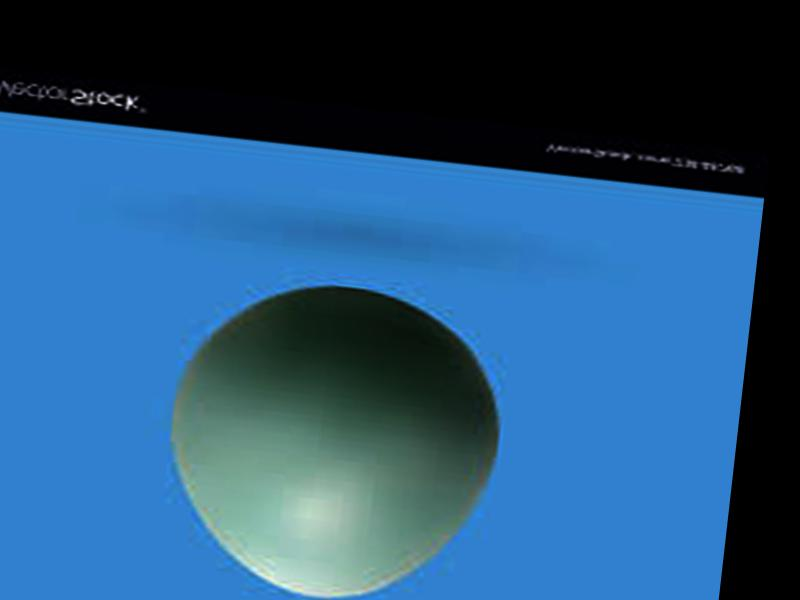Eggs: (155, 271, 517, 600)
